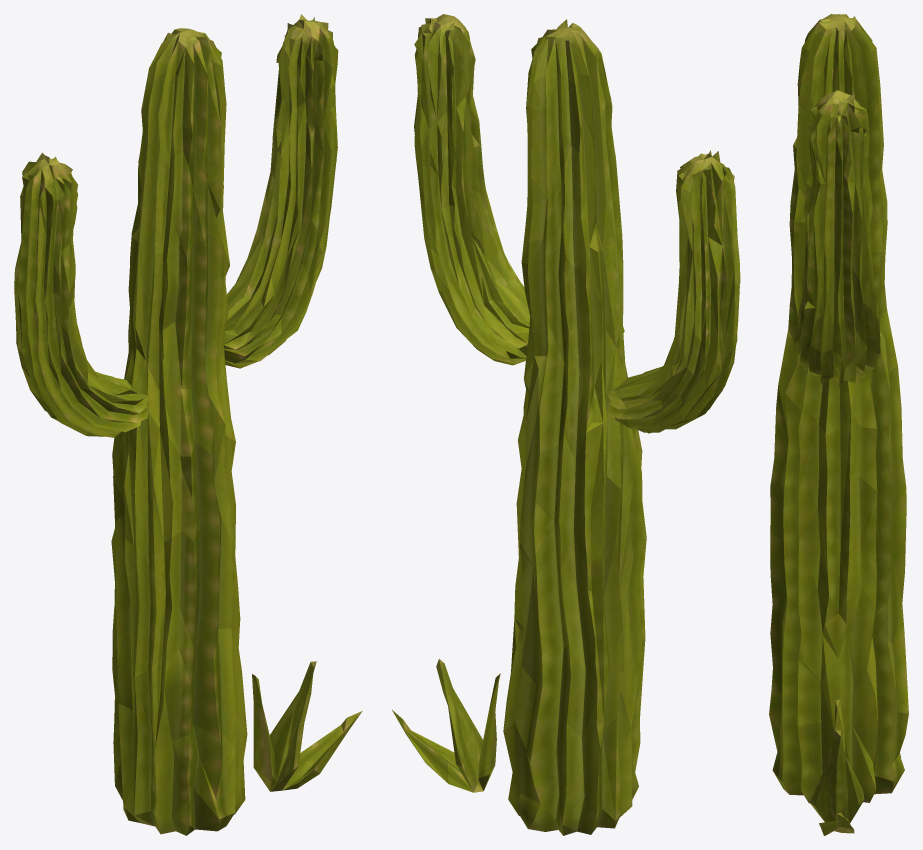
File: saguaro_cactus.glb
3 renders of one model, left to right at view 1: azimuth 30°, elevation 25°; view 2: azimuth 150°, elevation 25°; view 3: azimuth 270°, elevation 25°, orthographic.
Size of the model in its own units: 0.8692 by 1.89 by 0.3106.
1 material, 1 textured.
